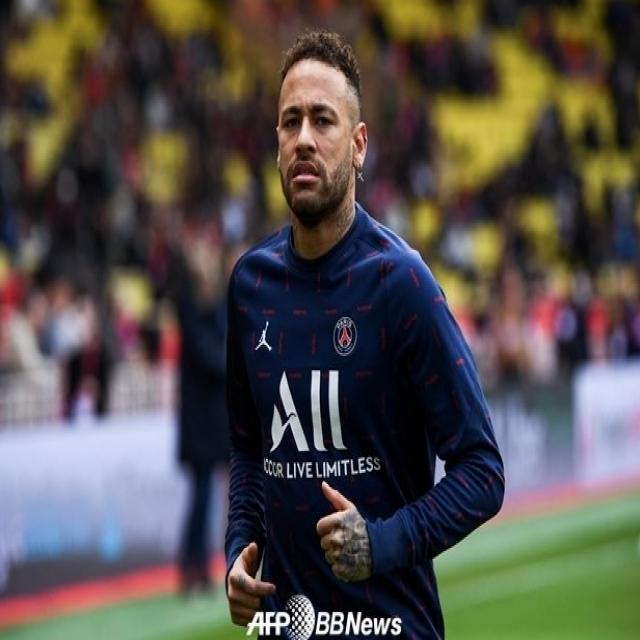neymar: (269, 35, 372, 228)
